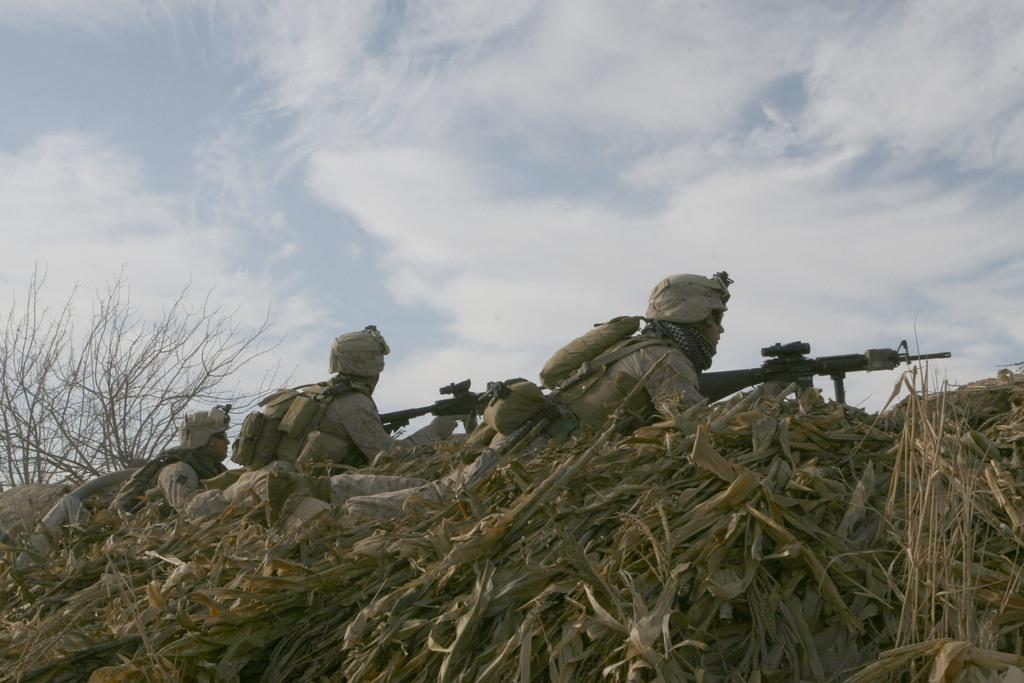Rifle: (712, 337, 932, 419)
